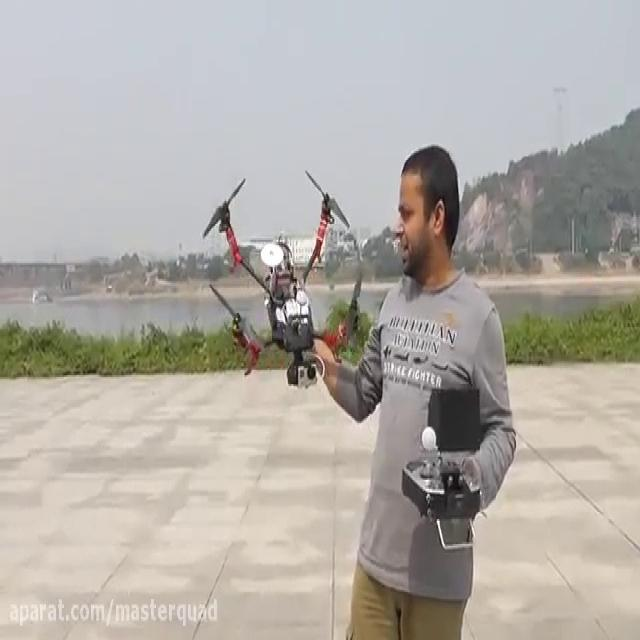drone: (197, 158, 364, 393)
